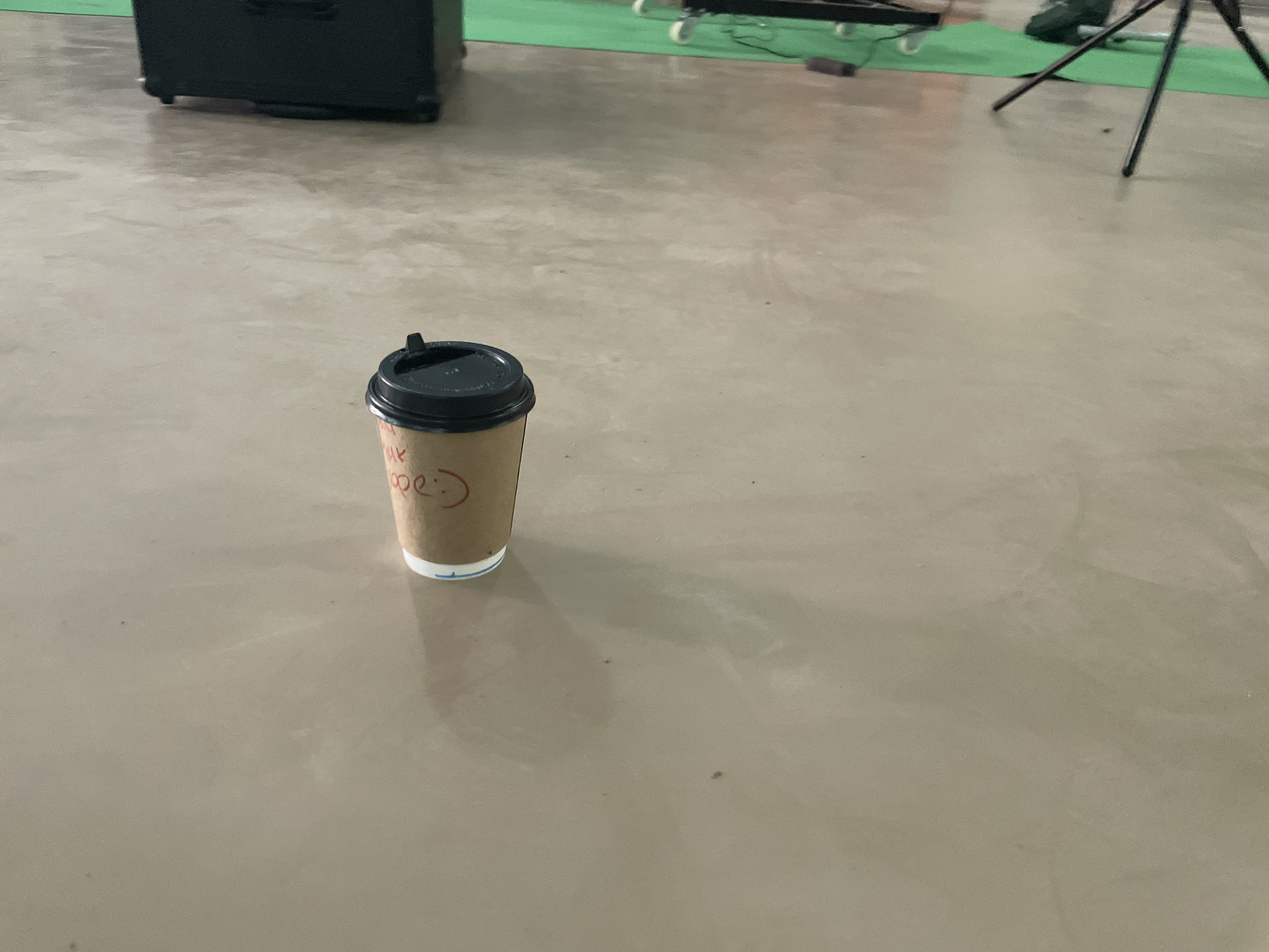cup: (365, 333, 535, 580)
